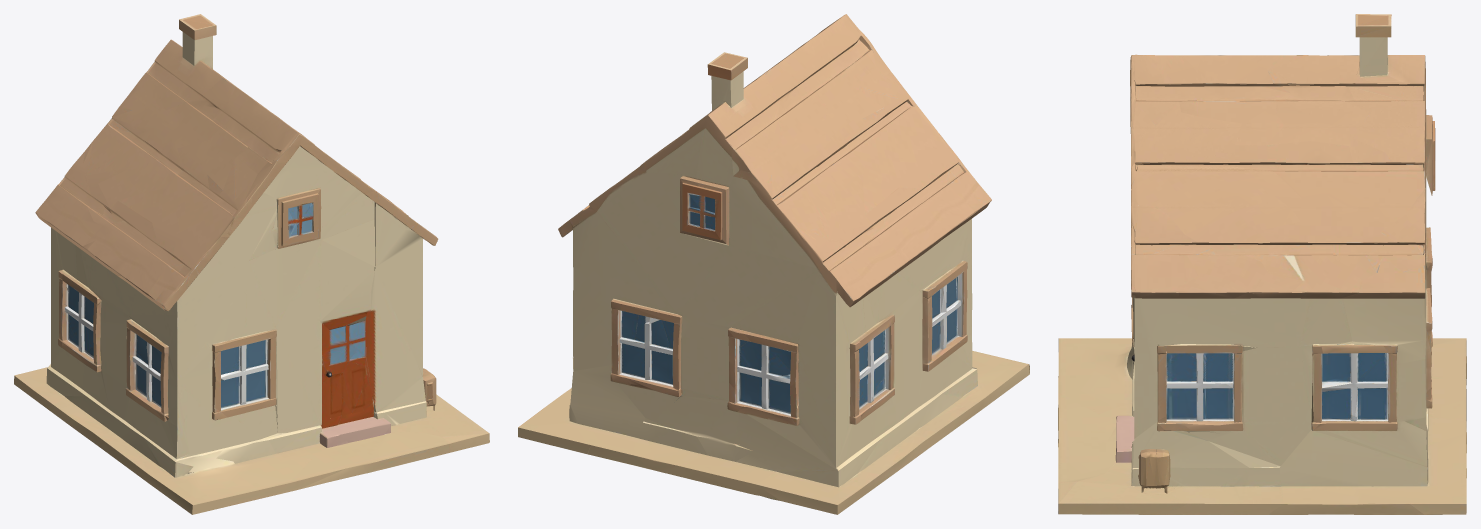
The model's file is building-cottage.glb.
The picture shows the model from 3 angles, left to right: view 1: azimuth 30°, elevation 25°; view 2: azimuth 150°, elevation 25°; view 3: azimuth 270°, elevation 25°; orthographic projection. The views are drawn at different scales.
Bounding box in the file's own units: 1.29 × 1.48 × 1.34.
1 material, 1 textured.
